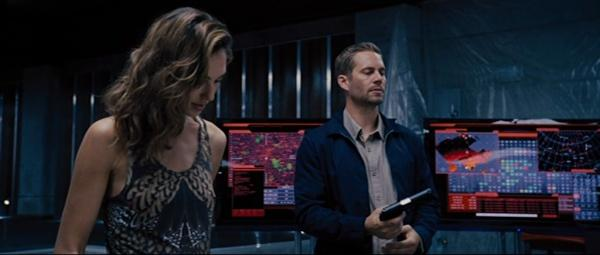Gun: (378, 187, 434, 223)
